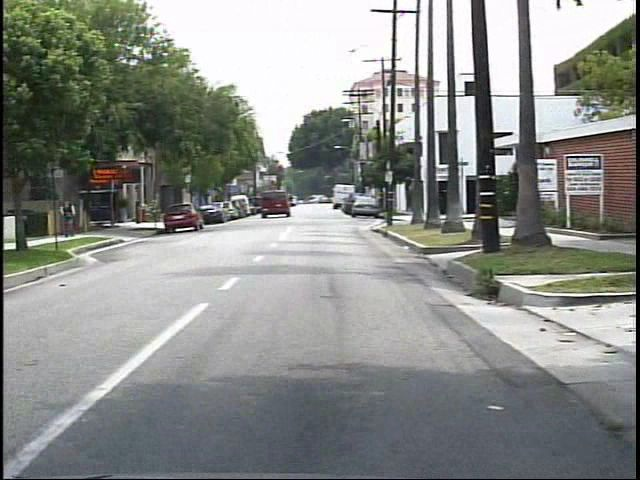person: (46, 191, 76, 239)
